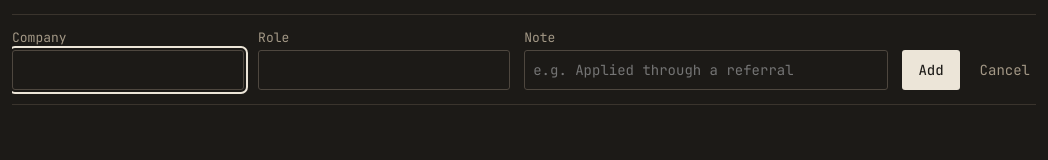
AddApplicationForm › should show the refusal when the machine refuses
Type "Org One AS" into the field labelled "Company" at [128, 70], box [12, 50, 244, 90]
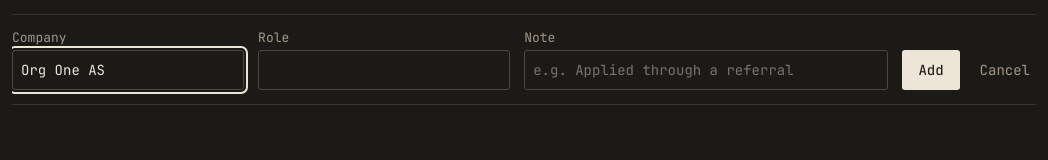
Click the button "Add" at [931, 70], box [902, 50, 960, 90]
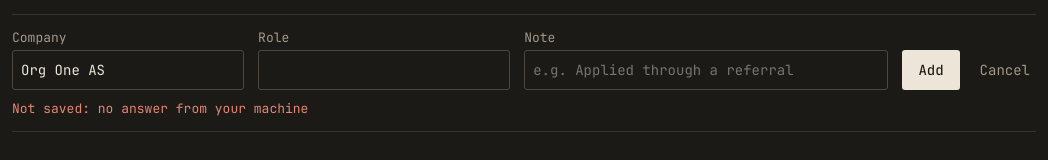
Expected: the message reads "Not saved: no answer from your machine", [12, 100, 308, 117]
